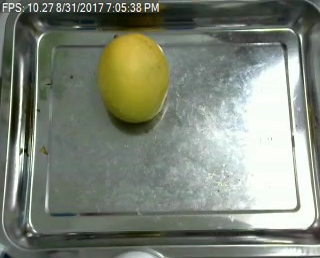Mango: (98, 34, 168, 122)
